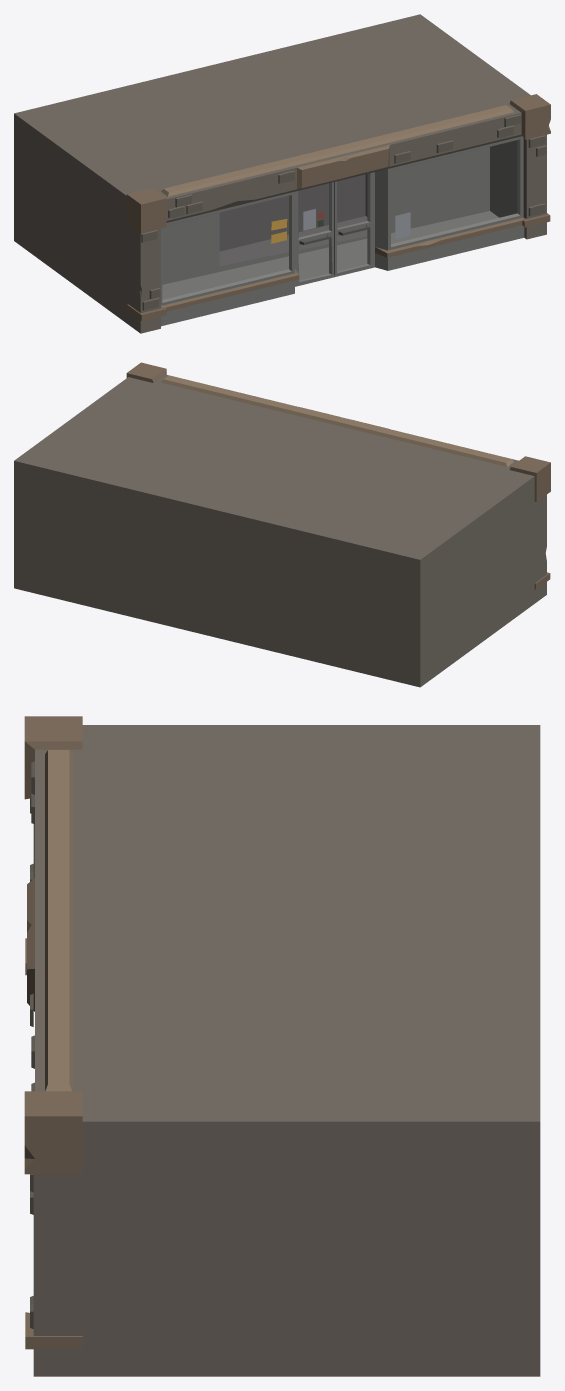
File: shop_03.glb
The picture shows the model from 3 angles, top to bottom: view 1: azimuth 30°, elevation 25°; view 2: azimuth 150°, elevation 25°; view 3: azimuth 270°, elevation 25°; orthographic projection. The views are drawn at different scales.
Parts seen in each view (by area): view 1: SM_Bld_Shop_03; view 2: SM_Bld_Shop_03; view 3: SM_Bld_Shop_03.
Boxes of the visible parts, x1,y1,x2,y2 form: SM_Bld_Shop_03: (14,14,550,333); SM_Bld_Shop_03: (14,362,550,687); SM_Bld_Shop_03: (24,716,540,1376).
Size of the model in its own units: 10.09 by 3.08 by 5.49.
Materials: 1 (1 with a texture image).
